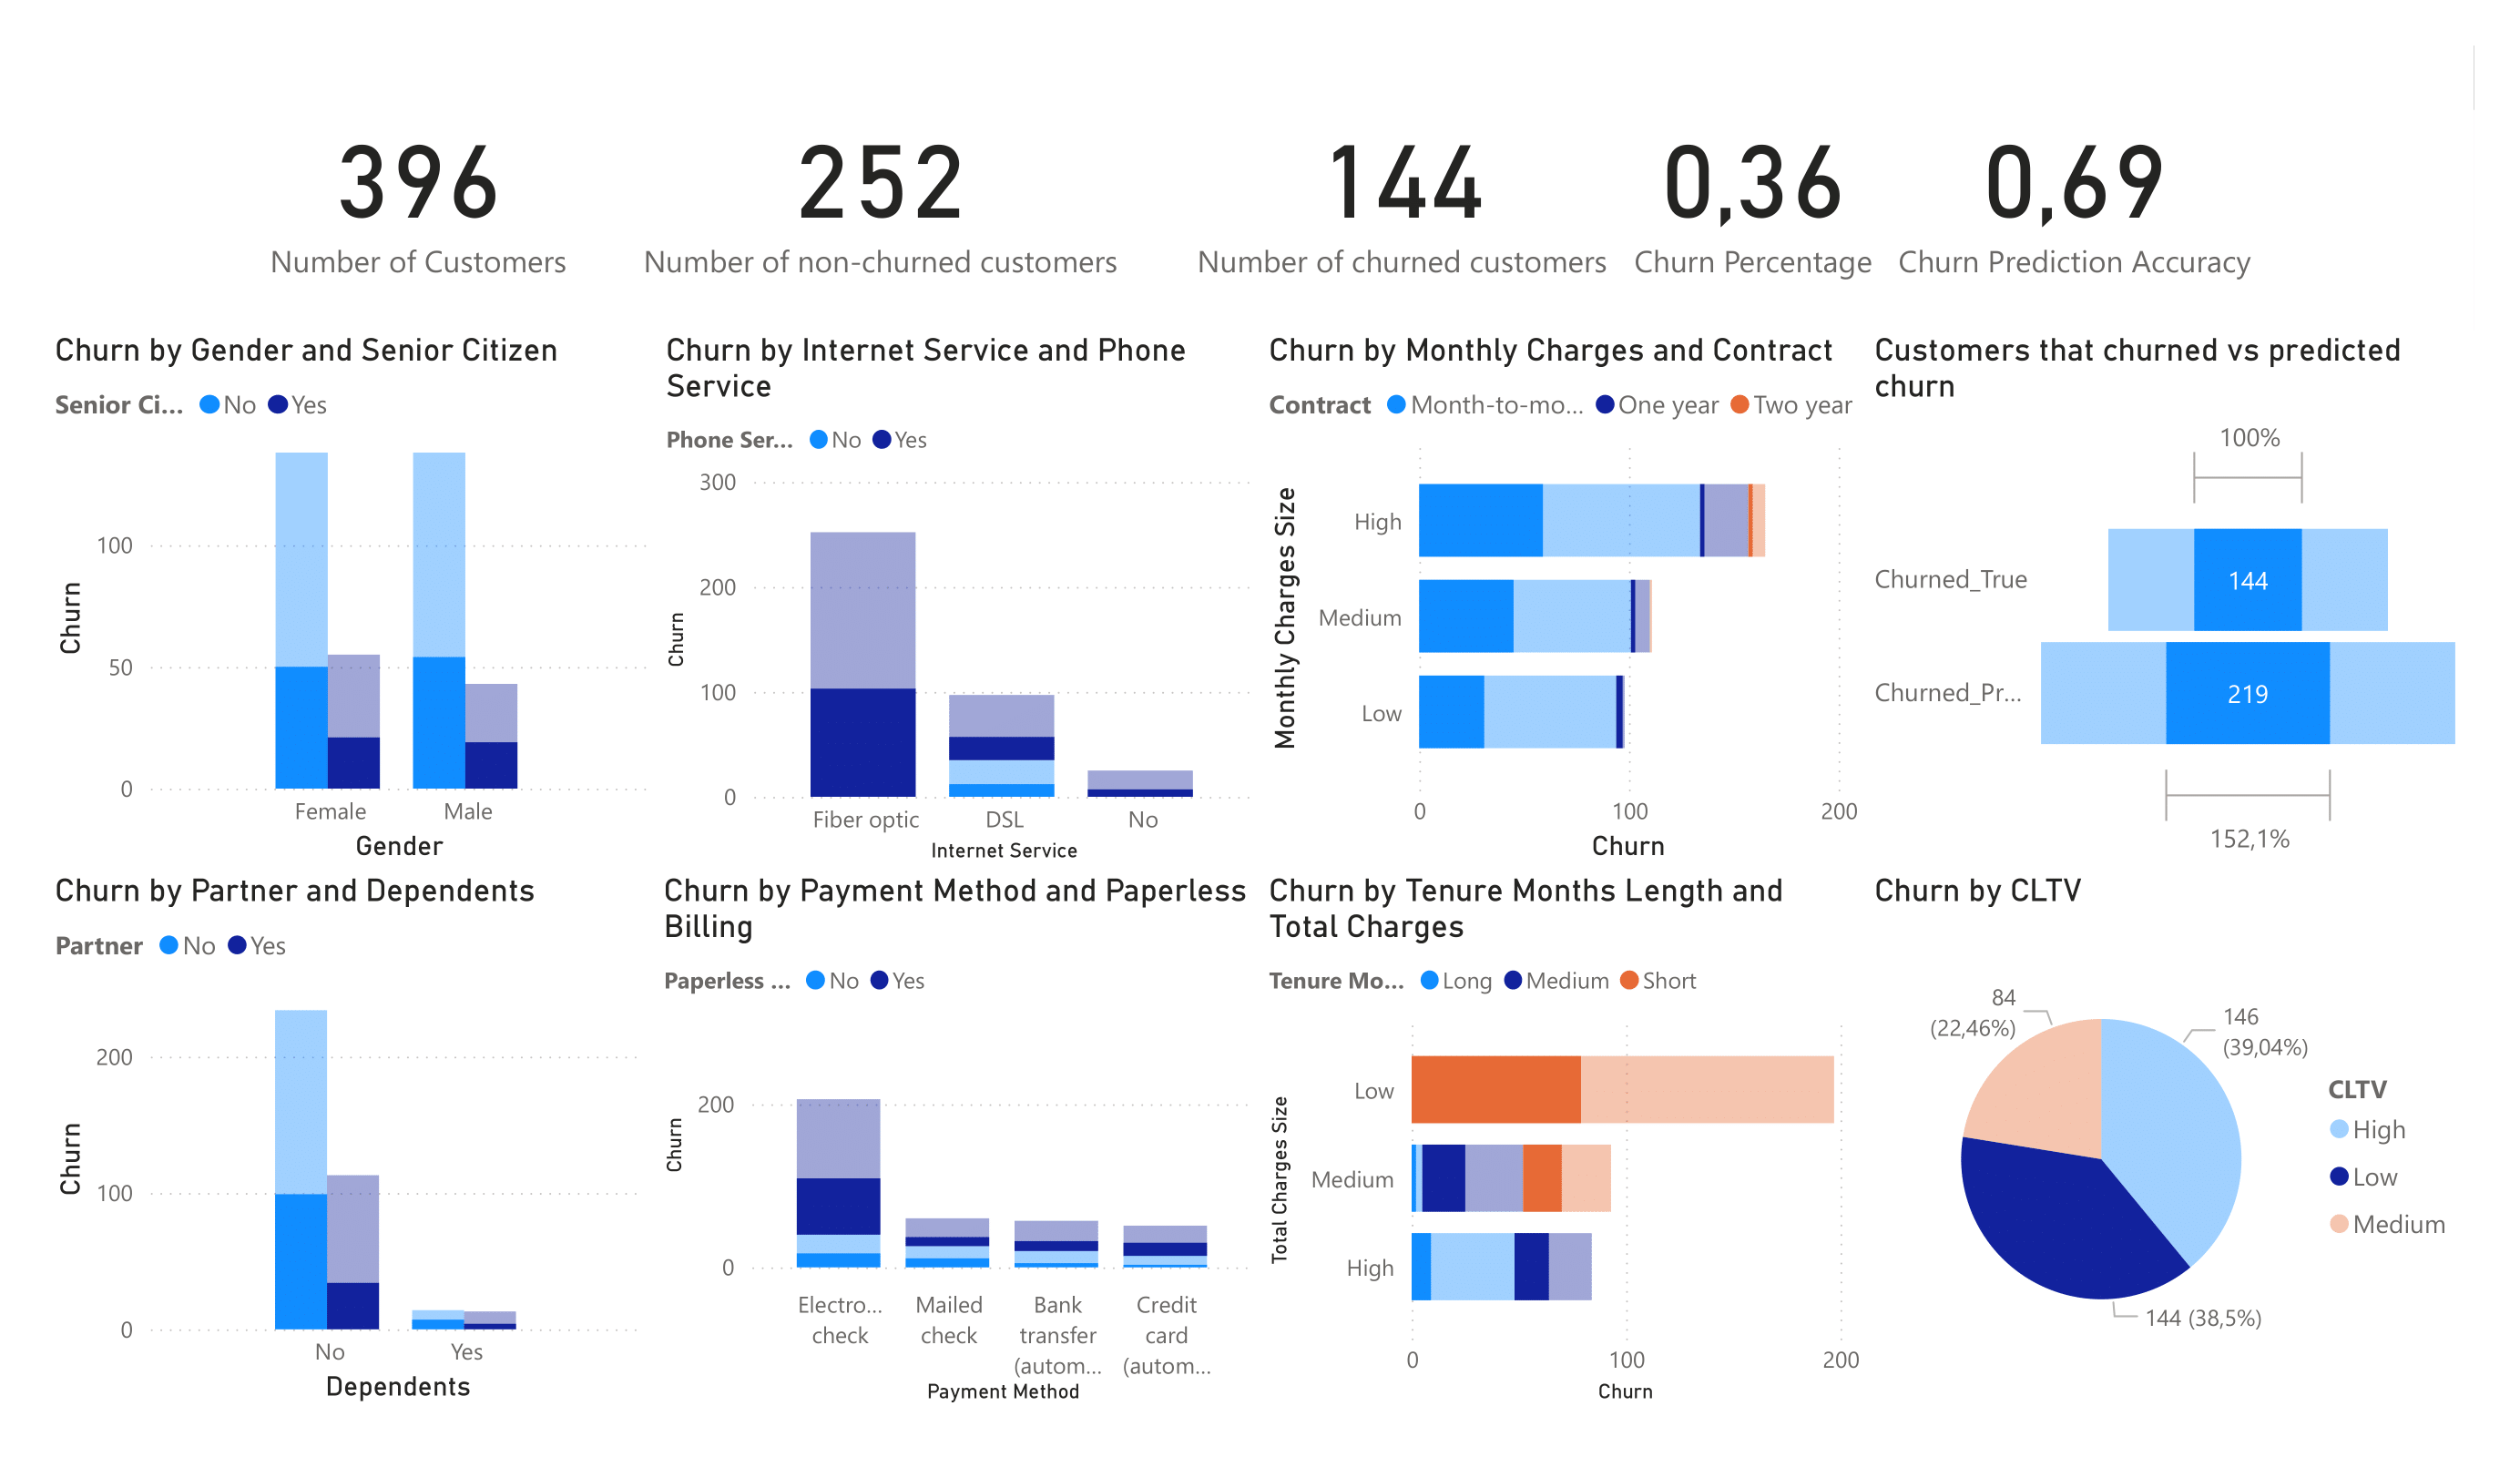

Layout of this report page (visuals, bound fields, positions):
{"tool":"powerbi","page":{"name":"Side 1","canvas":[1280,720],"ordinal":0},"visuals":[{"type":"card","fields":{"Values":["Avg(Forespørgsel1.y_true)"]},"box":[829.7,0,140.1,149.8],"z":0},{"type":"pieChart","title":"Churn by CLTV","fields":{"Y":["Sum(Attributes.y_true)"],"Category":["Attributes.CLTV Size"]},"box":[959,434.8,321,285],"z":1000},{"type":"card","fields":{"Values":["Attributes.Churn Prediction Accuracy"]},"box":[969.7,0,199.4,149.8],"z":2000},{"type":"barChart","title":"Churn by Tenure Months Length and Total Charges","fields":{"Category":["Attributes.Total Charges Size"],"Series":["Attributes.Tenure Months Length"],"Y":["Sum(Attributes.y_true)"]},"box":[640,434.8,321,285],"z":3000},{"type":"barChart","title":"Churn by Monthly Charges and Contract","fields":{"Category":["Attributes.Monthly Charges Size"],"Y":["Sum(Attributes.y_true)"],"Series":["Attributes.Contract"]},"box":[640,149.8,320,285],"z":4000},{"type":"columnChart","title":"Churn by Payment Method and Paperless Billing","fields":{"Category":["Attributes.Payment Method"],"Y":["Sum(Attributes.y_true)"],"Series":["Attributes.Paperless Billing"]},"box":[321,434.8,321,285],"z":5000},{"type":"columnChart","title":"Churn by Internet Service and Phone Service","fields":{"Category":["Attributes.Internet Service"],"Y":["Sum(Attributes.y_true)"],"Series":["Attributes.Phone Service"]},"box":[321.9,149.8,320,285],"z":6000},{"type":"clusteredColumnChart","title":"Churn by Partner and Dependents","fields":{"Category":["Attributes.Dependents"],"Series":["Attributes.Partner"],"Y":["Sum(Attributes.y_true)"]},"box":[0,434.8,321,285],"z":7000},{"type":"clusteredColumnChart","title":"Churn by Gender and Senior Citizen","fields":{"Category":["Attributes.Gender"],"Series":["Attributes.Senior Citizen"],"Y":["Sum(Attributes.y_true)"]},"box":[0,149.8,321.9,285],"z":8000},{"type":"funnel","title":"Customers that churned vs predicted churn","fields":{"Y":["Sum(Attributes.y_true)","Sum(Attributes.y_pred)"]},"box":[959,149.8,321,285],"z":9000},{"type":"card","fields":{"Values":["CountNonNull(Attributes.y_true)"]},"box":[110.9,0,171.2,149.8],"z":10000},{"type":"card","fields":{"Values":["CountNonNull(Attributes.y_true)"]},"box":[600.1,0,229.5,149.8],"z":11000},{"type":"card","fields":{"Values":["CountNonNull(Attributes.y_true)"]},"box":[280.1,0,320,149.8],"z":12000}]}

Visuals, with their boxes in screenshot pixels (x1, y1, x2, y2):
card - Avg(Forespørgsel1.y_true): BBox(1757, 66, 2020, 346)
"Churn by CLTV" pieChart: BBox(1999, 880, 2519, 1413)
card - Attributes.Churn Prediction Accuracy: BBox(2019, 66, 2392, 346)
"Churn by Tenure Months Length and Total Charges" barChart: BBox(1402, 880, 2003, 1413)
"Churn by Monthly Charges and Contract" barChart: BBox(1402, 346, 2001, 880)
"Churn by Payment Method and Paperless Billing" columnChart: BBox(804, 880, 1405, 1413)
"Churn by Internet Service and Phone Service" columnChart: BBox(806, 346, 1405, 880)
"Churn by Partner and Dependents" clusteredColumnChart: BBox(203, 880, 804, 1413)
"Churn by Gender and Senior Citizen" clusteredColumnChart: BBox(203, 346, 806, 880)
"Customers that churned vs predicted churn" funnel: BBox(1999, 346, 2519, 880)
card - CountNonNull(Attributes.y_true): BBox(411, 66, 731, 346)
card - CountNonNull(Attributes.y_true): BBox(1327, 66, 1757, 346)
card - CountNonNull(Attributes.y_true): BBox(728, 66, 1327, 346)
